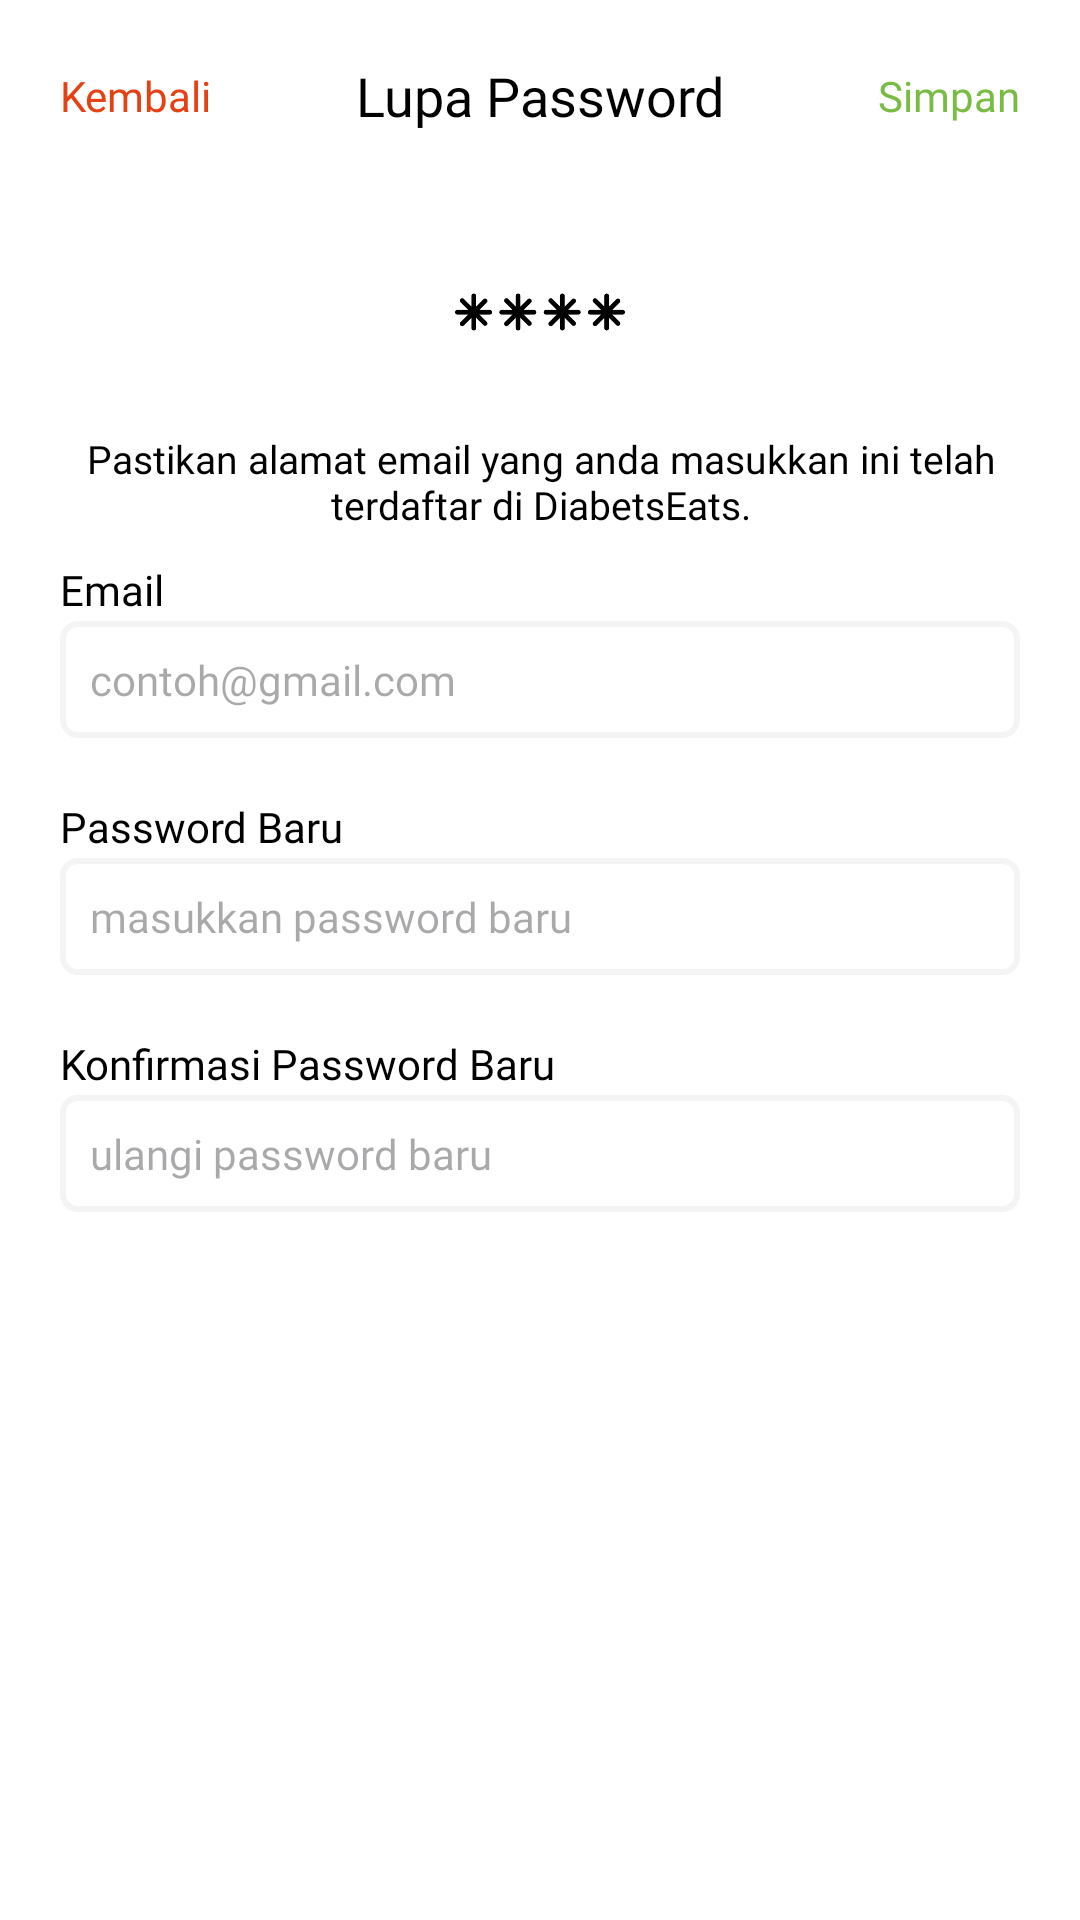

Where to tap for icons on this 1080*1920 app screen, as (x=x, y=y):
bintang: (x=540, y=312)
